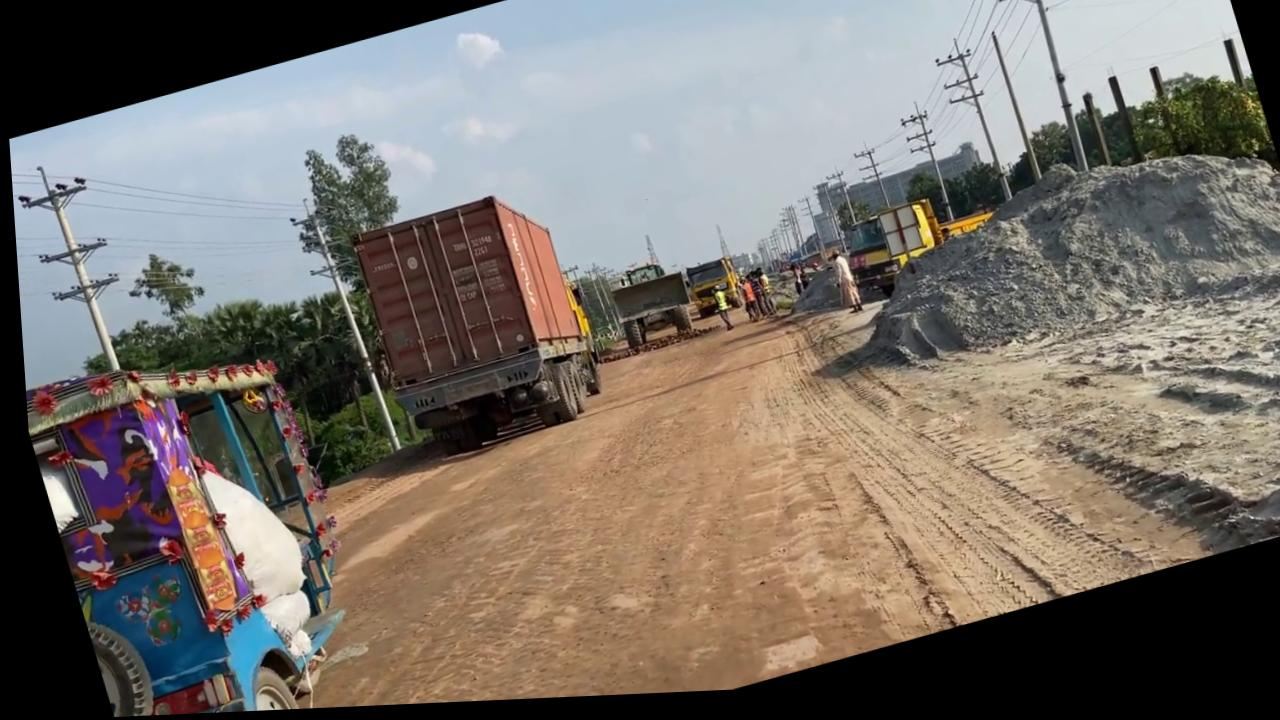Garbage: (791, 140, 1280, 467)
Pole: (985, 37, 1039, 193)
Traffic-sign: (265, 124, 463, 465)
Tree: (17, 316, 397, 720), (336, 181, 608, 472), (828, 186, 1009, 314), (589, 221, 747, 361), (597, 258, 695, 360), (676, 259, 741, 326)
